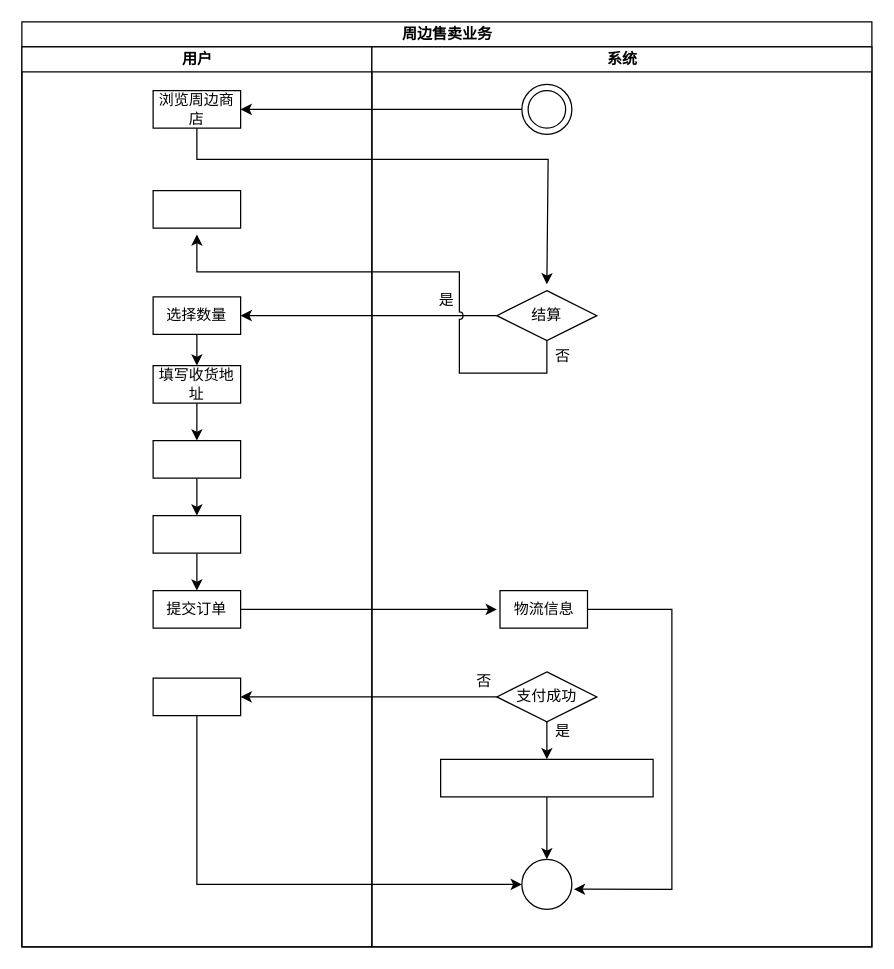
This 894x969 diagram has some shape labels left out. The shapes that lost their labels are listed below. From the top down, each one's centre as x and y in pixels, then its label:
the point at 196,208: 继续浏览
the point at 196,458: 填写联系人信息
the point at 196,533: 选择支付方式
the point at 196,696: 失败通知
the point at 546,777: 更新周边库存数量
